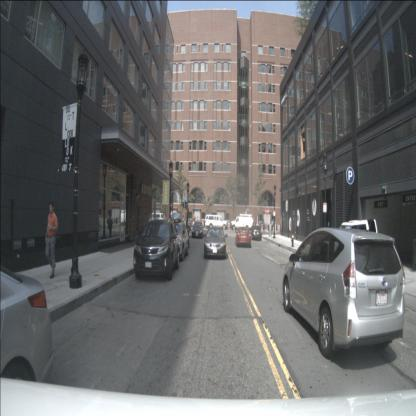human-pedestrian-adult: (45, 200, 58, 278), (272, 218, 274, 230)
vehicle-car: (283, 226, 405, 358), (0, 264, 54, 414), (133, 220, 180, 281), (332, 219, 378, 254), (162, 222, 188, 262), (204, 228, 227, 260), (148, 211, 166, 232), (205, 214, 228, 230), (231, 216, 254, 230), (235, 228, 251, 247), (120, 209, 136, 225), (249, 225, 262, 240), (192, 222, 204, 238), (150, 213, 164, 223)
